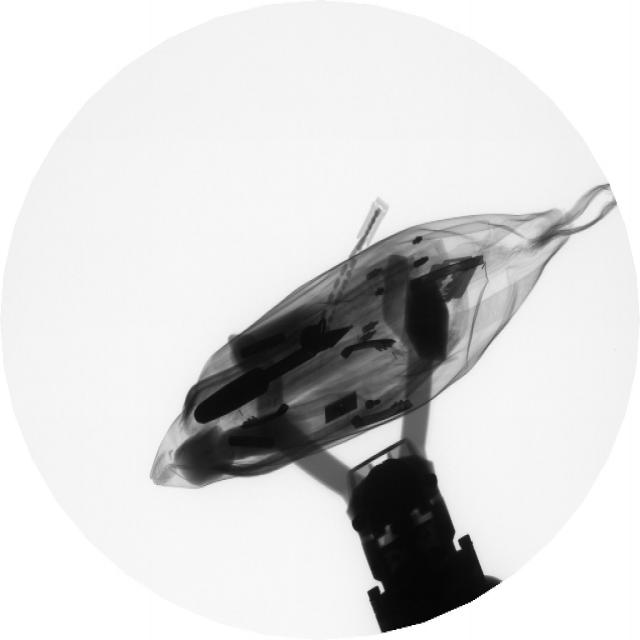BLADE: (411, 251, 487, 314)
